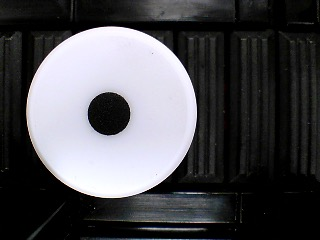BOHO: (26, 26, 198, 198)
